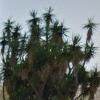Tree: (19, 10, 86, 92)
